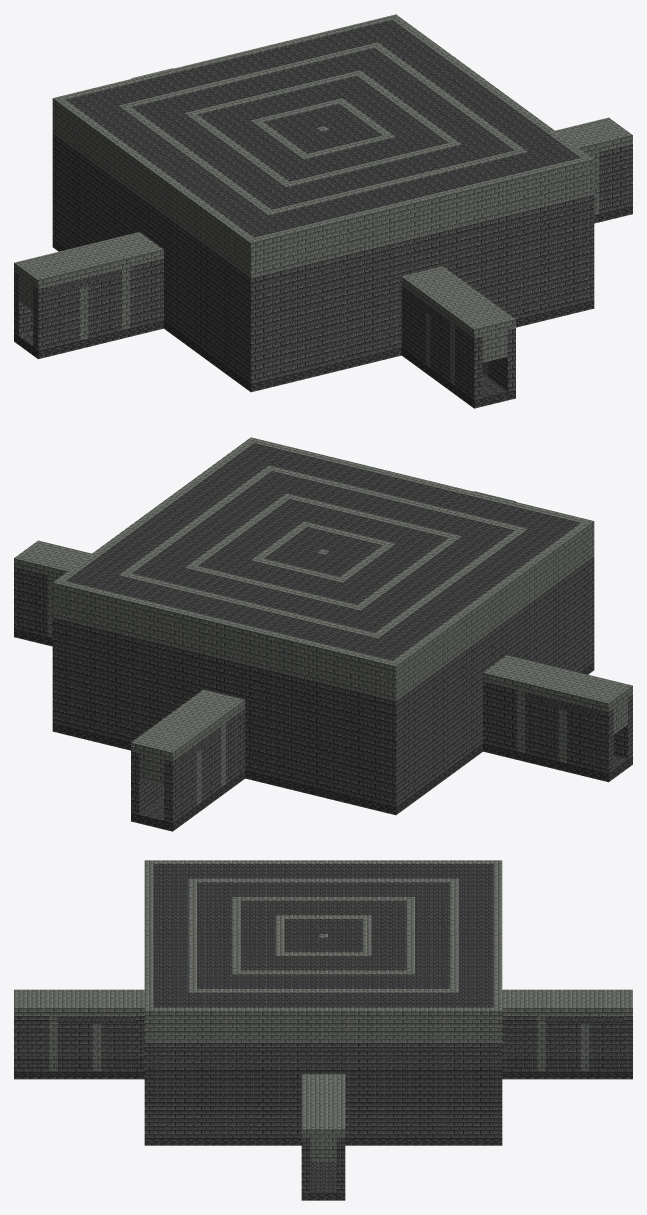
File: sg-01-central-cavern.glb
3 views of the same model, one above another, from view 1: azimuth 30°, elevation 25°; view 2: azimuth 150°, elevation 25°; view 3: azimuth 270°, elevation 25° (orthographic). The views are drawn at different scales.
Visible parts, largest first — view 1: SG-01 assembled NBT structure; view 2: SG-01 assembled NBT structure; view 3: SG-01 assembled NBT structure.
Boxes of the visible parts, left/top/right/bottom form: SG-01 assembled NBT structure: left=14, top=14, right=632, bottom=408; SG-01 assembled NBT structure: left=14, top=437, right=632, bottom=831; SG-01 assembled NBT structure: left=14, top=860, right=632, bottom=1200.
Size of the model in its own units: 71 by 17 by 71.
Materials: 8 (8 with a texture image).
